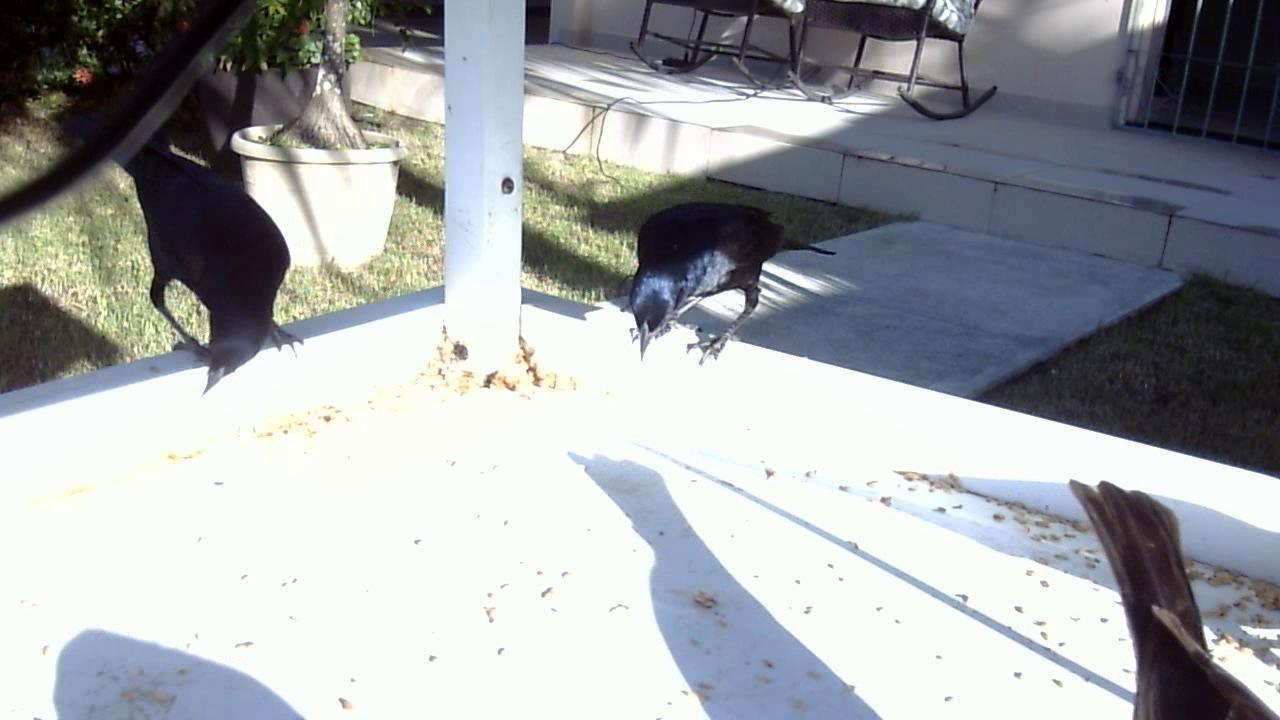chupim: (86, 122, 316, 408), (564, 184, 882, 382), (1051, 466, 1276, 712)
